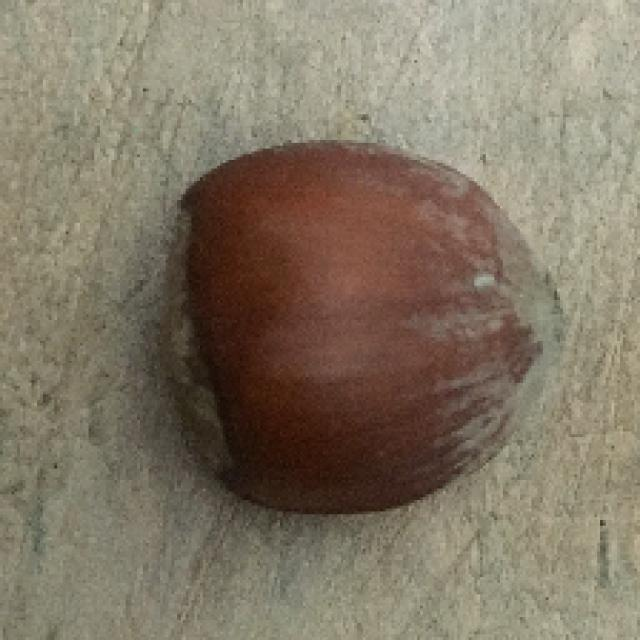qualityHazelnut: (163, 141, 572, 516)
